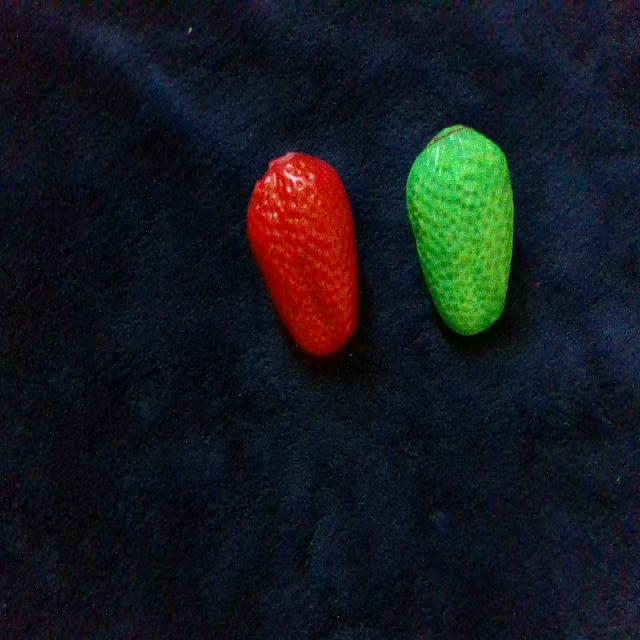grande_roja: (248, 153, 357, 353)
verde: (406, 125, 512, 333)
